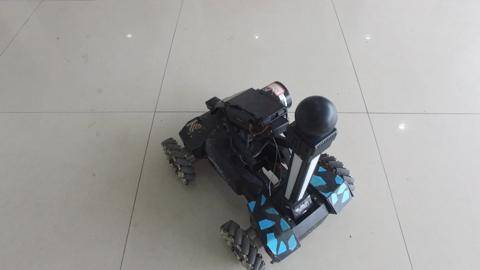chariot: (140, 55, 353, 268)
